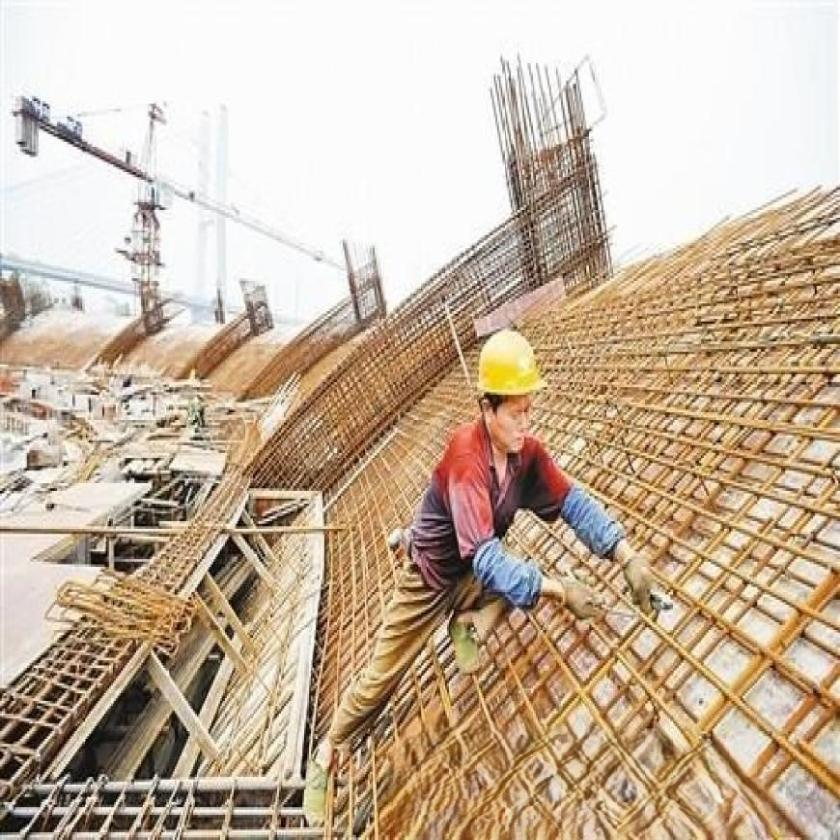Con_casco: (476, 322, 540, 473)
